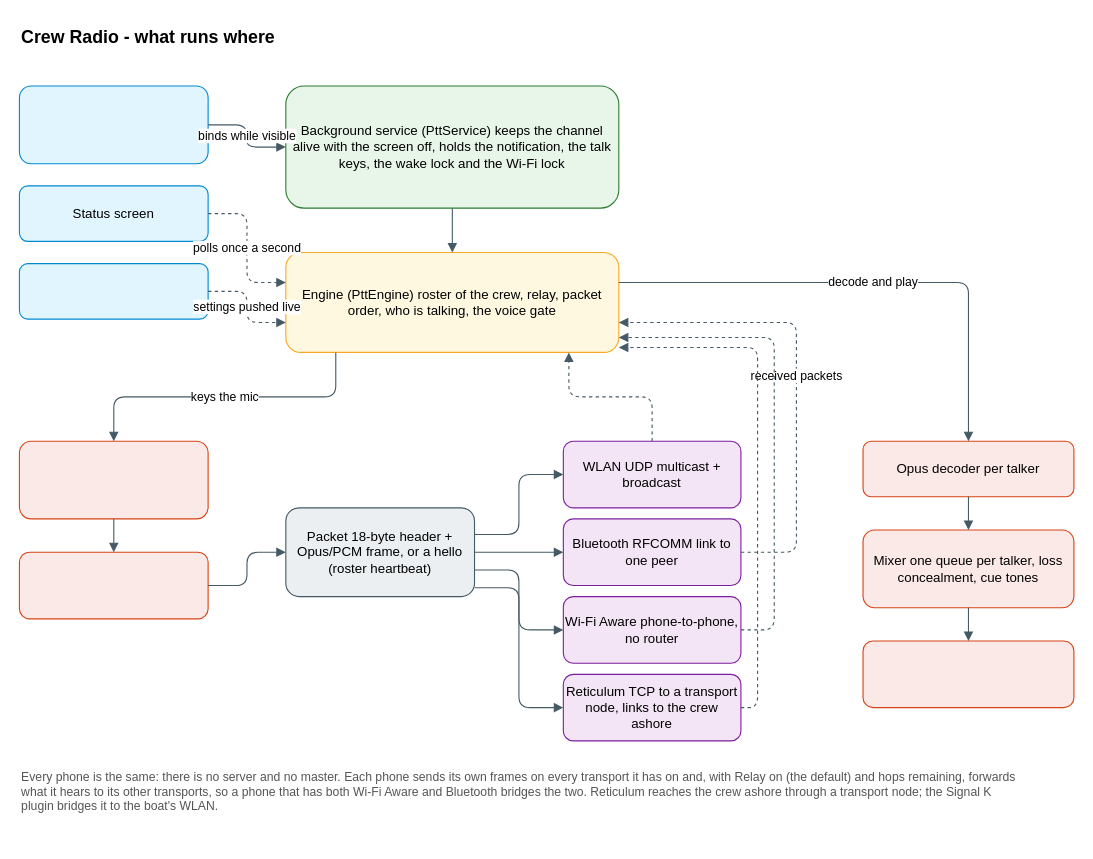
The diagram is 1093 pixels wide and 859 high, and some of its shapes have lost their labels. The centre of each missing label's shape, as x and y in pixels:
"Main screen (MainActivity)" belongs at [113,124].
"Microphone (AudioCapture) 16 kHz, 20 ms frames" belongs at [113,479].
"Opus encoder (platform codec)" belongs at [113,585].
"Settings screen" belongs at [113,291].
"Speaker, earpiece or headset (AudioPlayback + AudioRoute)" belongs at [968,674].
